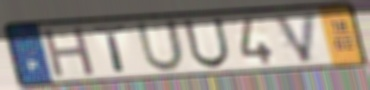4: (238, 15, 277, 67)
H: (39, 24, 98, 80)
T: (91, 24, 131, 74)
U: (134, 18, 187, 73), (181, 16, 233, 70)
V: (271, 10, 319, 65)
